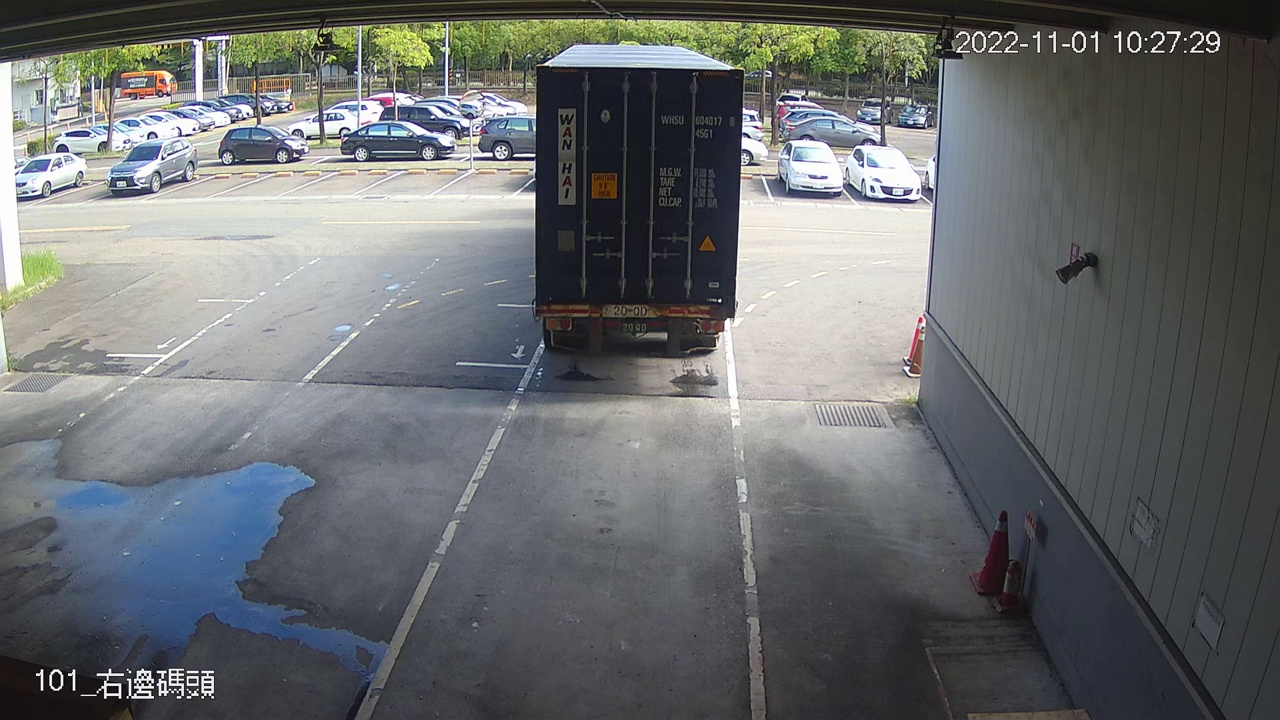container: (658, 109, 738, 144)
